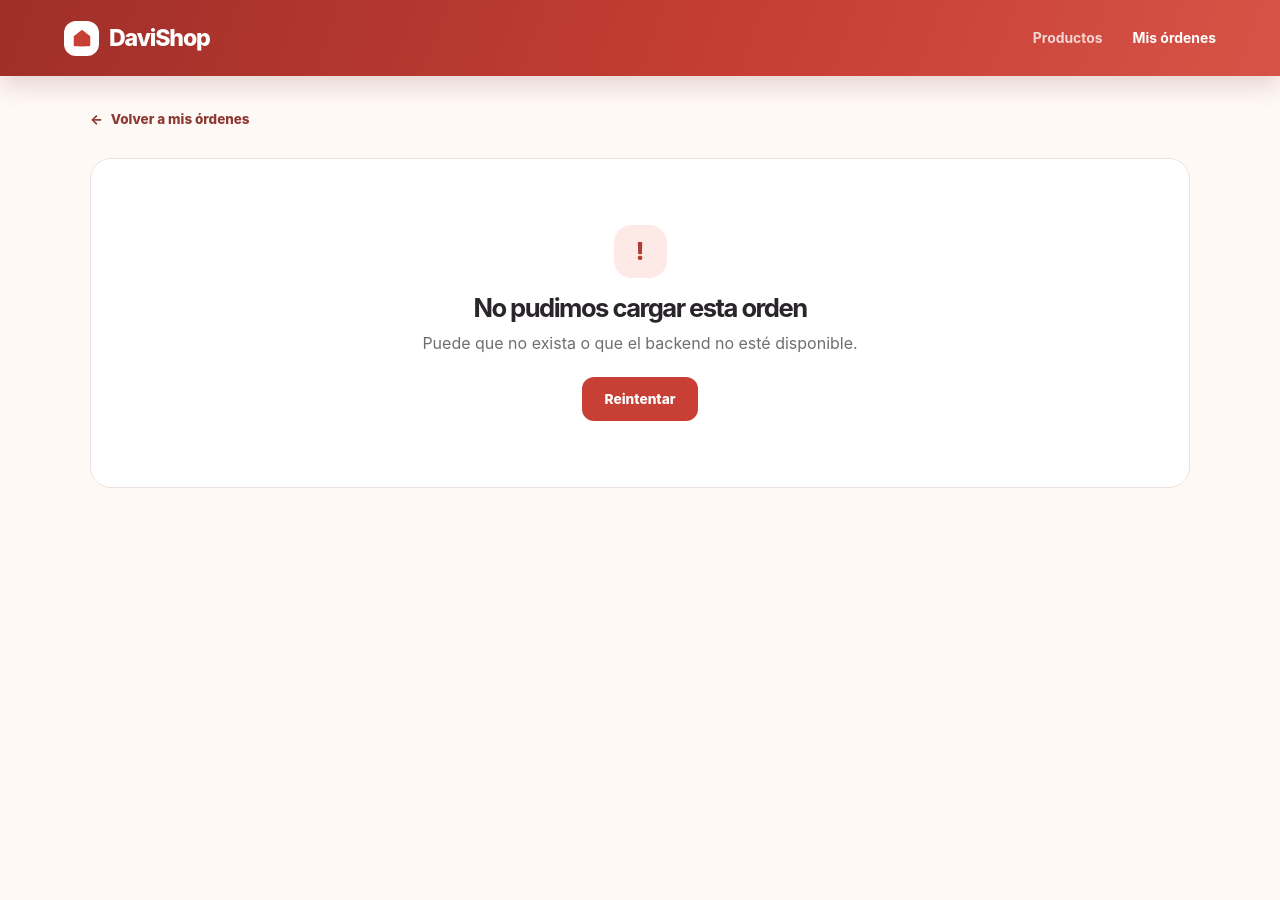
Test: OrderDetailPageComponent › shows an error and retries a failed detail request
Click the button "Reintentar".
click(640, 399)  # box x1=582 y1=377 x2=698 y2=421
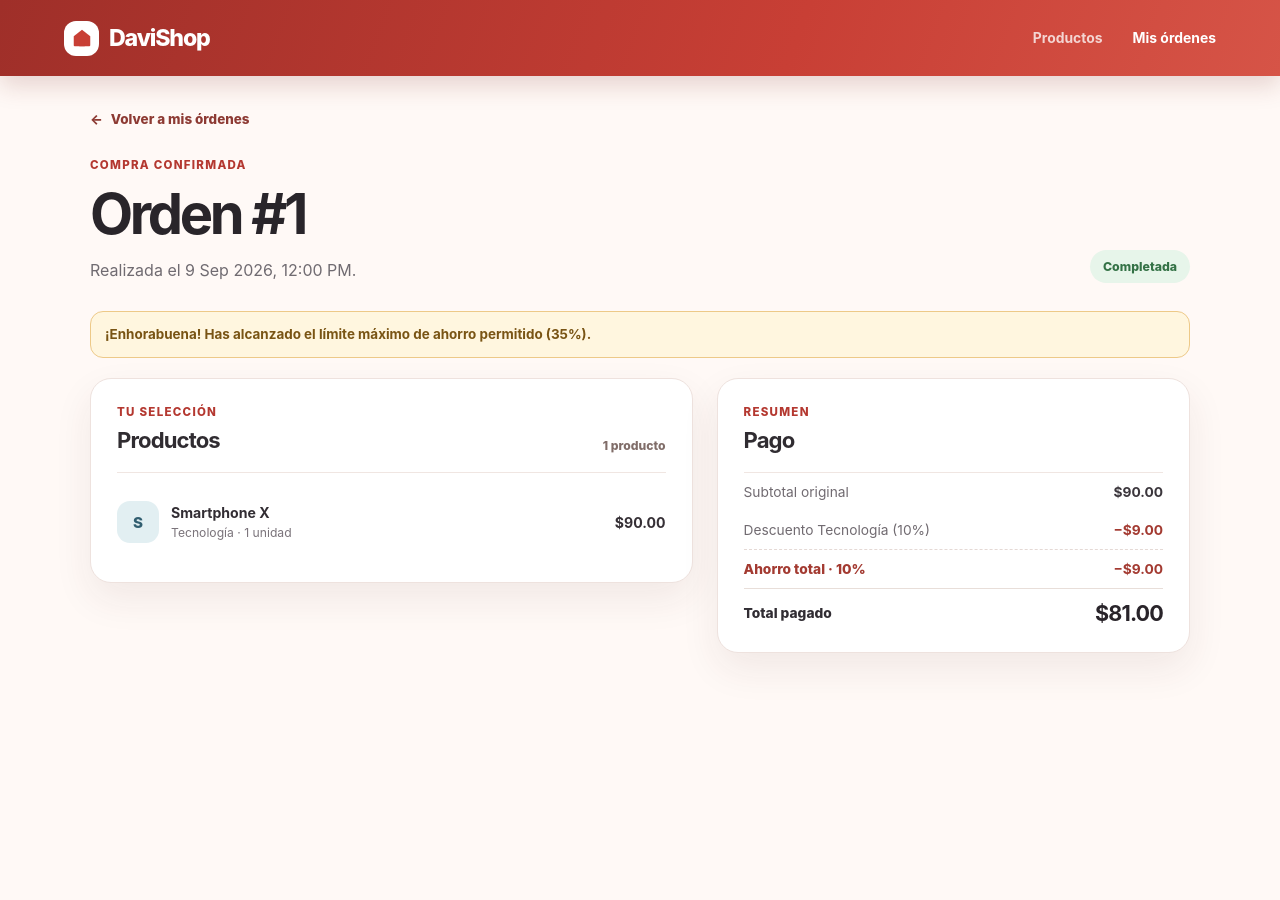
Expected: the text "Orden #1" is shown, x1=90 y1=180 x2=305 y2=248
